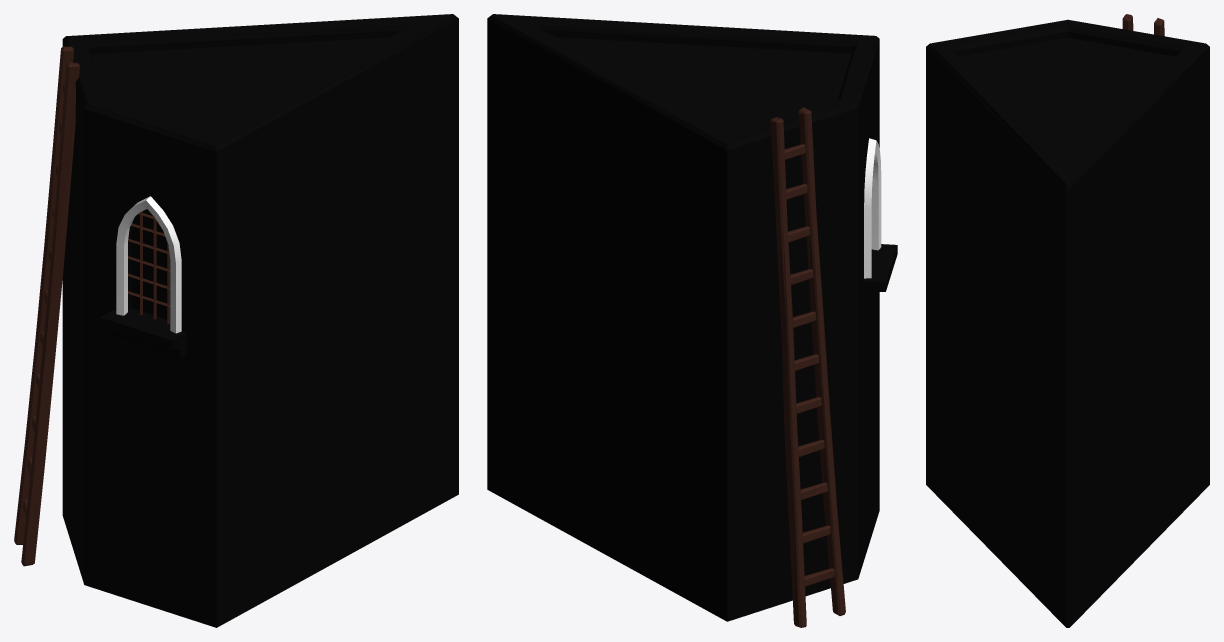
File: civilian_house_22.FBX
3 views of the same model, side by side, from view 1: azimuth 30°, elevation 25°; view 2: azimuth 150°, elevation 25°; view 3: azimuth 270°, elevation 25° (orthographic). The views are drawn at different scales.
Visible parts, largest first — view 1: civilian_house_22; view 2: civilian_house_22; view 3: civilian_house_22.
Part boxes in pixels (<box>): civilian_house_22: <box>14,14,458,627</box>; civilian_house_22: <box>487,14,897,627</box>; civilian_house_22: <box>926,14,1209,627</box>.
Size of the model in its own units: 594 by 708 by 398.
